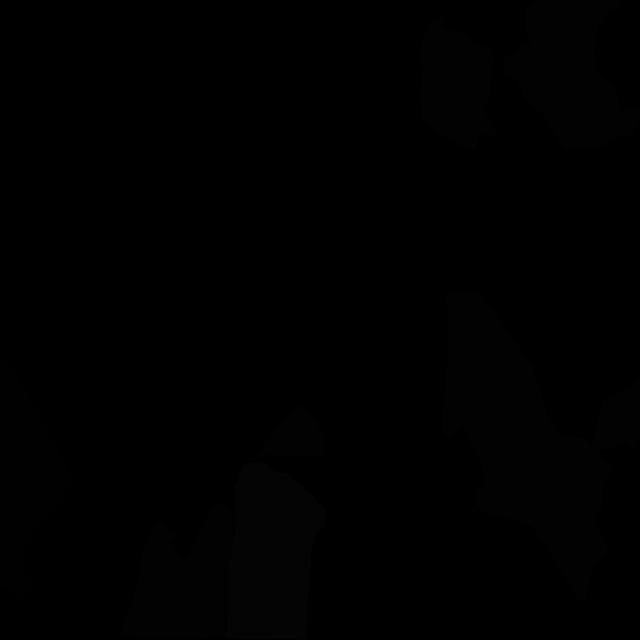cardboard: (442, 291, 615, 602), (503, 0, 640, 150), (117, 503, 236, 639), (420, 17, 497, 149), (255, 403, 326, 459), (592, 376, 640, 451)
rigid_plastic: (0, 354, 74, 602)
soft_plastic: (226, 461, 326, 640)
